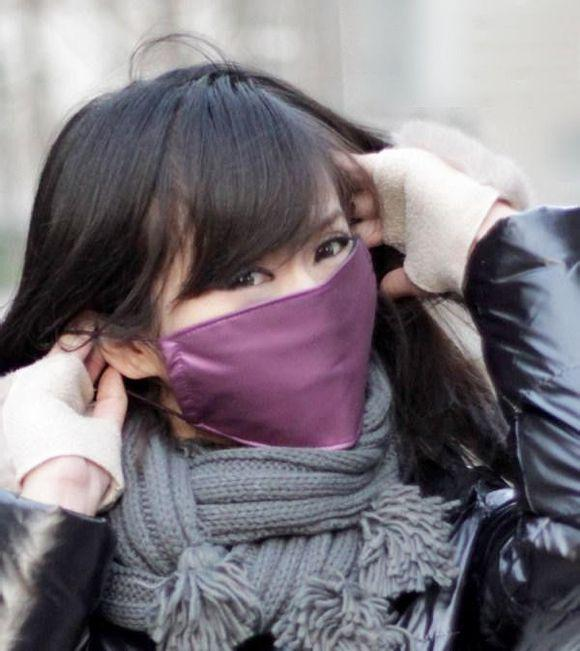OK: (141, 195, 390, 444)
